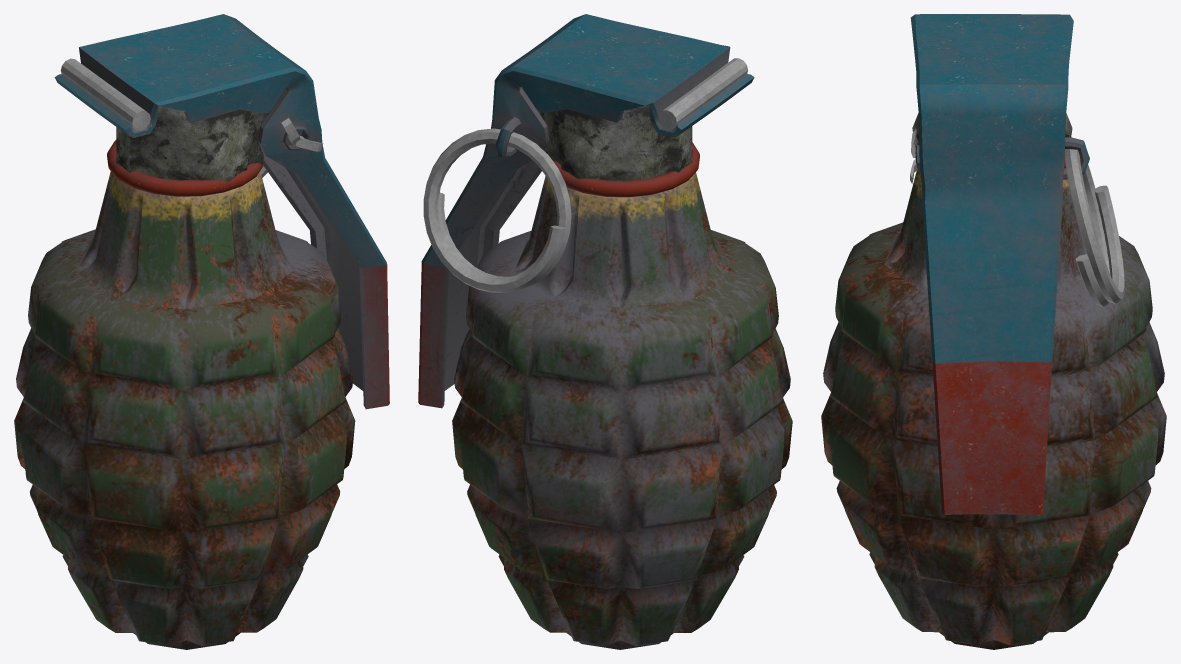
The model's file is grenade_low_poly.glb.
3 views of the same model, side by side, from view 1: azimuth 30°, elevation 25°; view 2: azimuth 150°, elevation 25°; view 3: azimuth 270°, elevation 25° (orthographic).
Visible parts, largest first — view 1: polySurface18, pPlane3, pCube1, pTorus1, pCylinder2; view 2: polySurface18, pPlane3, pCube1, pHelix1, pTorus1, pCylinder2; view 3: polySurface18, pPlane3, pHelix1.
Boxes of the visible parts, <box> form: polySurface18: <box>14,171,355,649</box>; pPlane3: <box>54,14,389,409</box>; pCube1: <box>116,107,269,182</box>; pTorus1: <box>107,140,264,196</box>; pCylinder2: <box>60,58,150,130</box>; polySurface18: <box>452,172,792,649</box>; pPlane3: <box>418,14,754,408</box>; pCube1: <box>539,106,692,180</box>; pHelix1: <box>423,128,571,292</box>; pTorus1: <box>553,142,699,197</box>; pCylinder2: <box>658,58,747,129</box>; polySurface18: <box>821,169,1166,649</box>; pPlane3: <box>910,14,1089,515</box>; pHelix1: <box>1065,149,1124,306</box>.
Bounding box in the file's own units: 0.0921 × 0.153 × 0.0834.
Materials: 1 (1 with a texture image).
